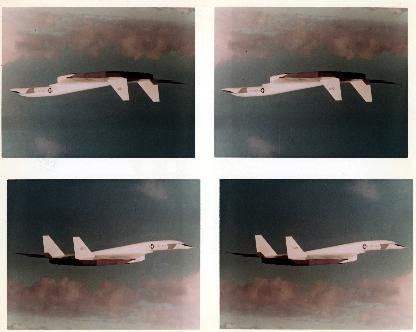U2: (8, 235, 196, 266), (220, 235, 408, 266), (6, 72, 194, 102), (218, 72, 406, 102)
